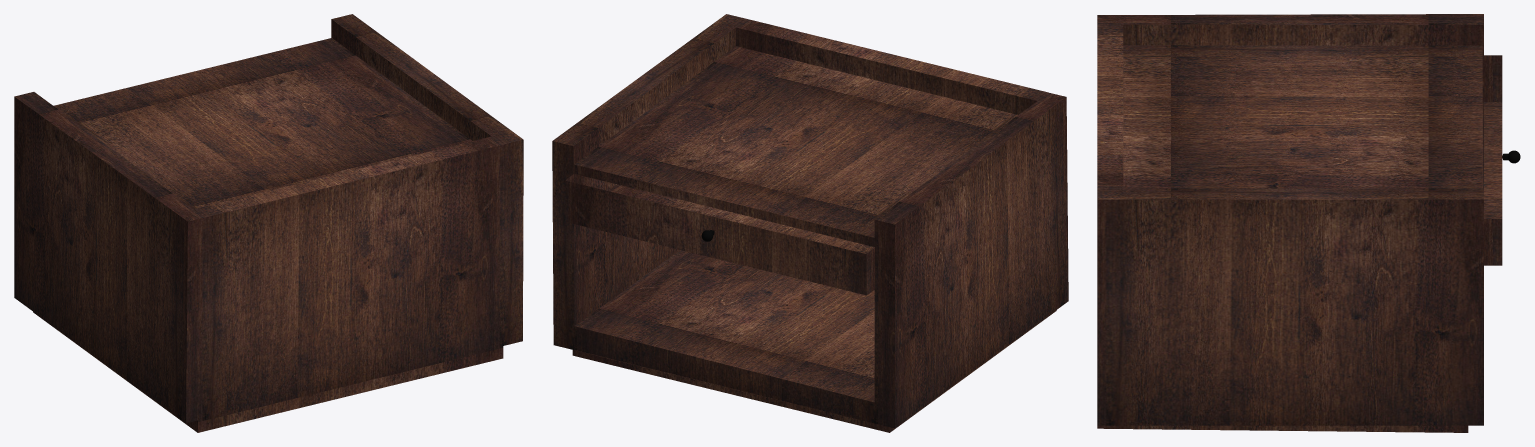
Rendered from mesa de luz.fbx.
The picture shows the model from 3 angles, left to right: view 1: azimuth 30°, elevation 25°; view 2: azimuth 150°, elevation 25°; view 3: azimuth 270°, elevation 25°; orthographic projection. The views are drawn at different scales.
Visible parts, largest first — view 1: Cube; view 2: Cube; view 3: Cube.
Boxes of the visible parts, x1,y1,x2,y2 form: Cube: (14,14,523,432); Cube: (552,14,1068,432); Cube: (1097,14,1502,432).
Bounding box in the file's own units: 171 × 103 × 164.
2 materials, 1 textured.
